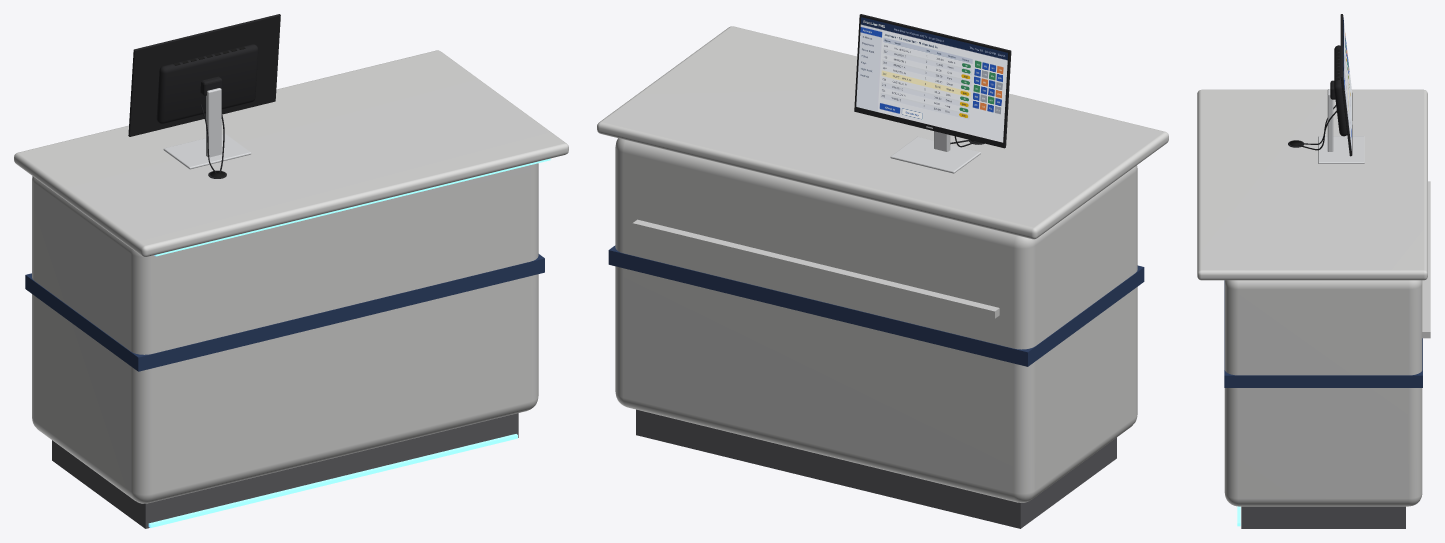
Rendered from hotel-checkin-pod.glb.
The picture shows the model from 3 angles, left to right: view 1: azimuth 30°, elevation 25°; view 2: azimuth 150°, elevation 25°; view 3: azimuth 270°, elevation 25°; orthographic projection. The views are drawn at different scales.
Parts seen in each view (by area): view 1: solid_surface, monitor_black, charcoal, navy_fabric.001, led_blue, steel; view 2: solid_surface, desk_lit, charcoal, navy_fabric.001, steel, monitor_black; view 3: solid_surface, charcoal, navy_fabric.001, steel, monitor_black, desk_lit.
Part boxes in pixels (x1=…): solid_surface: x1=14, y1=50, x2=568, y2=503; monitor_black: x1=128, y1=14, x2=280, y2=136; charcoal: x1=52, y1=413, x2=518, y2=528; navy_fabric.001: x1=25, y1=254, x2=544, y2=371; led_blue: x1=148, y1=158, x2=550, y2=527; steel: x1=163, y1=88, x2=251, y2=169; solid_surface: x1=597, y1=26, x2=1168, y2=502; desk_lit: x1=856, y1=17, x2=1007, y2=142; charcoal: x1=636, y1=409, x2=1116, y2=528; navy_fabric.001: x1=608, y1=245, x2=1144, y2=366; steel: x1=890, y1=126, x2=980, y2=173; monitor_black: x1=854, y1=14, x2=1011, y2=148; solid_surface: x1=1197, y1=89, x2=1430, y2=506; charcoal: x1=1241, y1=506, x2=1405, y2=528; navy_fabric.001: x1=1224, y1=280, x2=1422, y2=387; steel: x1=1318, y1=89, x2=1364, y2=163; monitor_black: x1=1330, y1=14, x2=1352, y2=156; desk_lit: x1=1343, y1=17, x2=1351, y2=150.
Bounding box in the file's own units: 1.58 × 1.51 × 0.85.
Materials: 10 (1 with a texture image).
